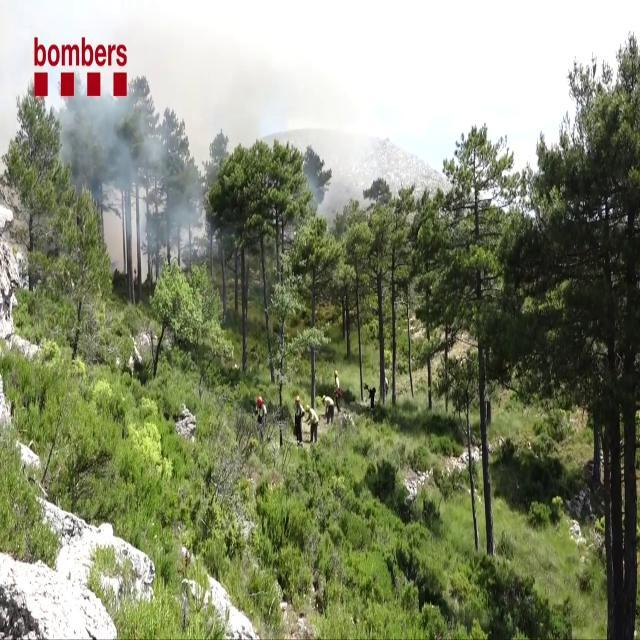Smoke: (57, 86, 201, 257)
